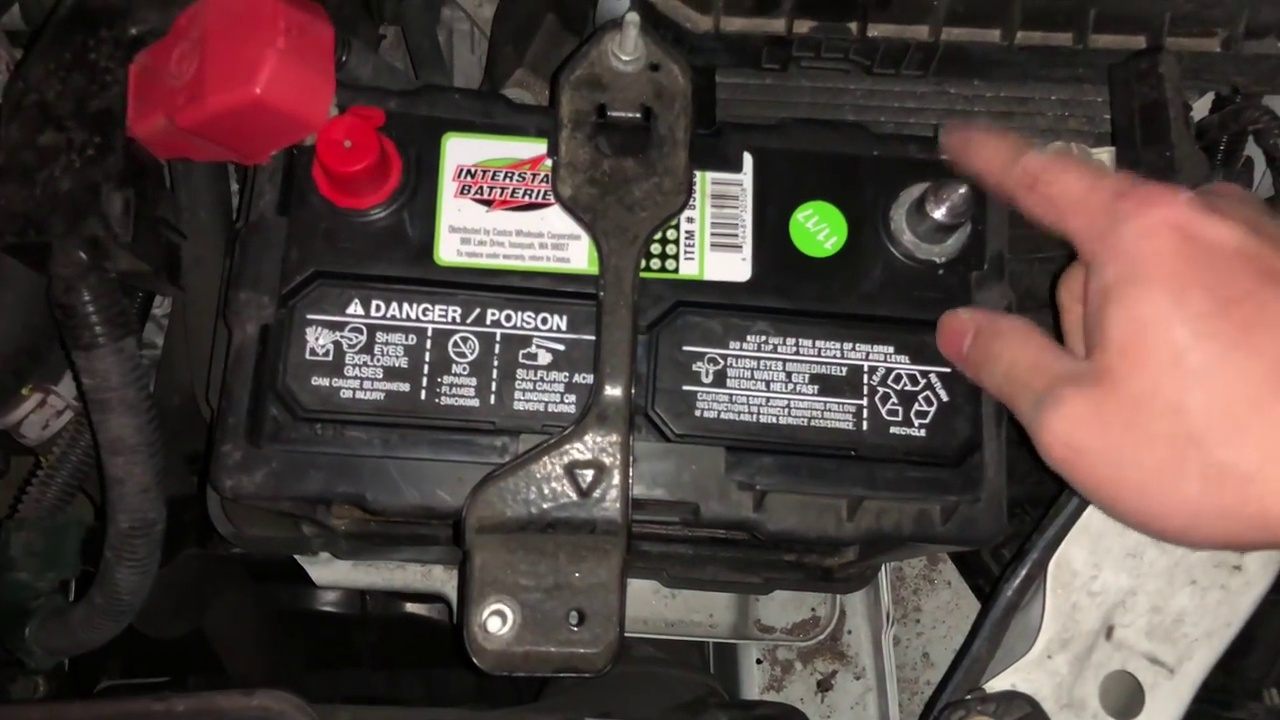battery: (262, 96, 986, 477)
neg_touched: (875, 133, 1193, 406)
pos_disconnected: (139, 30, 413, 206)
